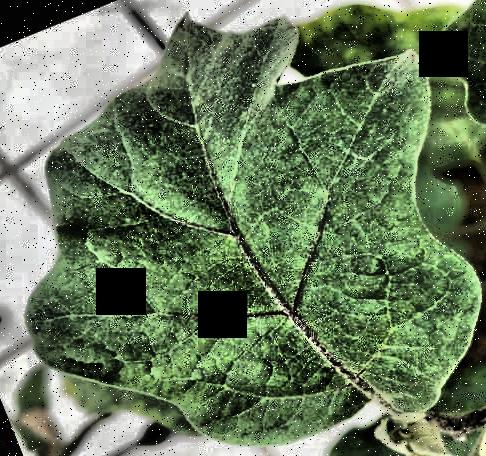HEALTHY: (0, 1, 486, 456)
